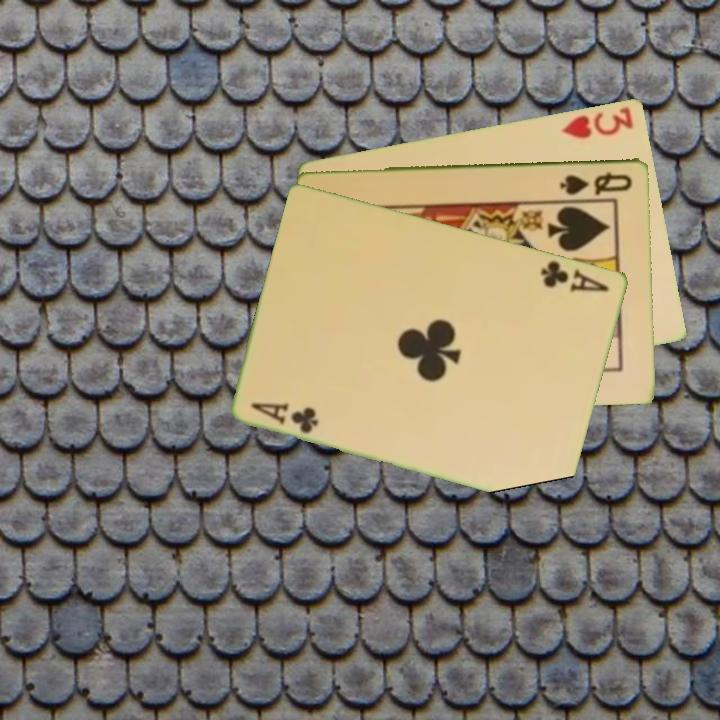3h: (558, 102, 636, 141)
Ac: (537, 257, 613, 296), (248, 398, 322, 436)
Qs: (557, 168, 635, 196)
